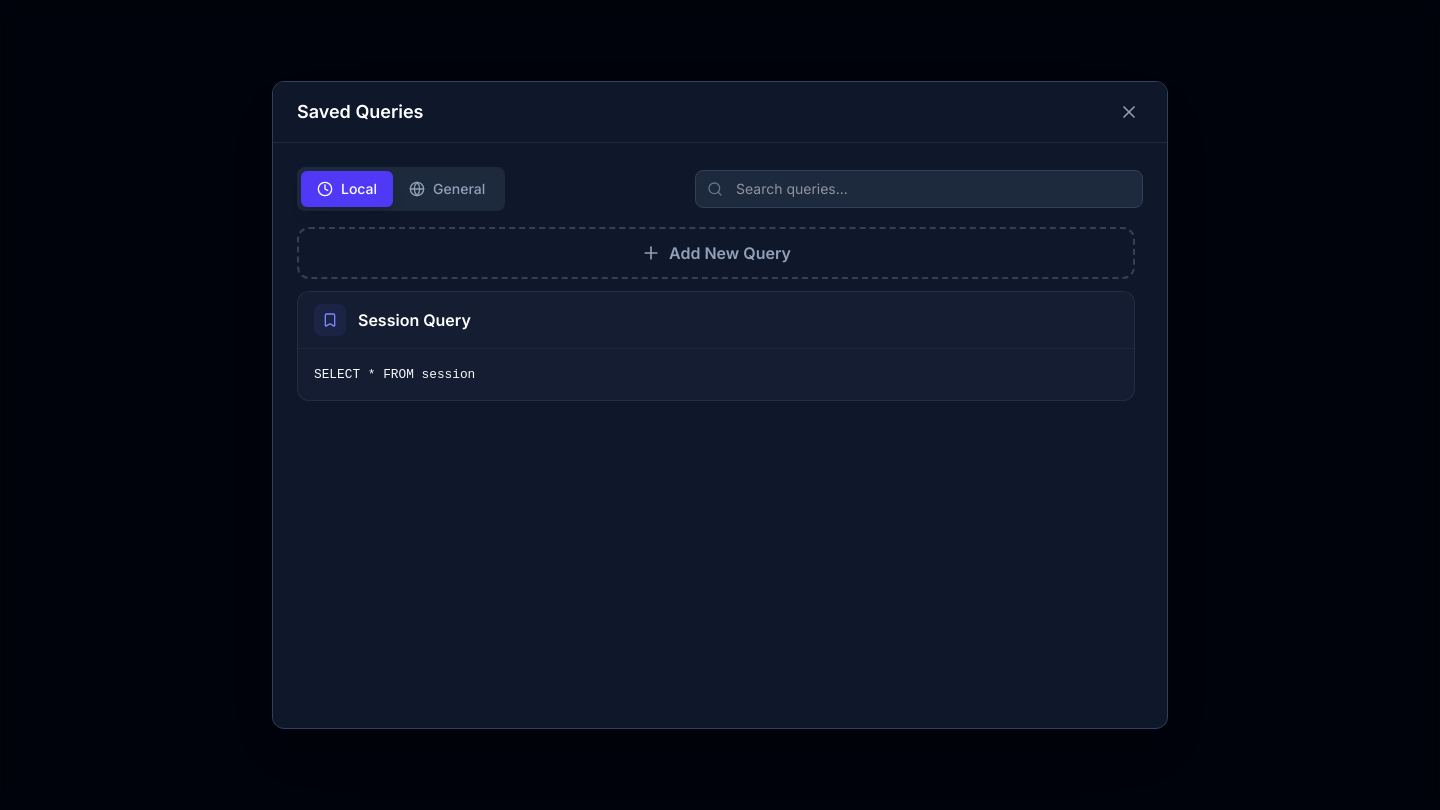
Test: SavedQueriesModal › switches between scopes
The image size is (1440, 810).
Click the button "General".
click(447, 189)  # box [393,171,501,207]
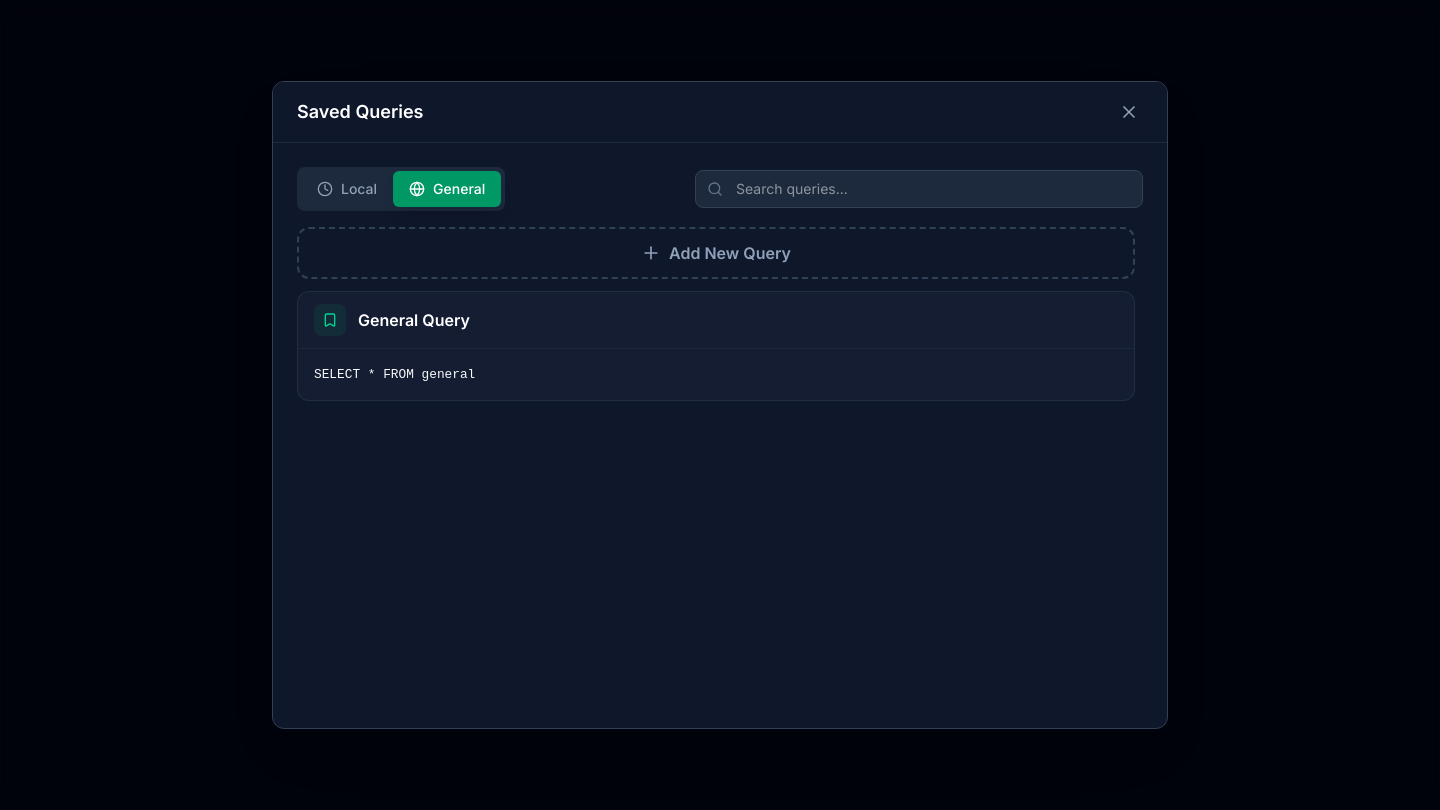
expect the heading "General Query" is shown: met, box [358,308,470,332]
expect the heading "Session Query" is gone: met
